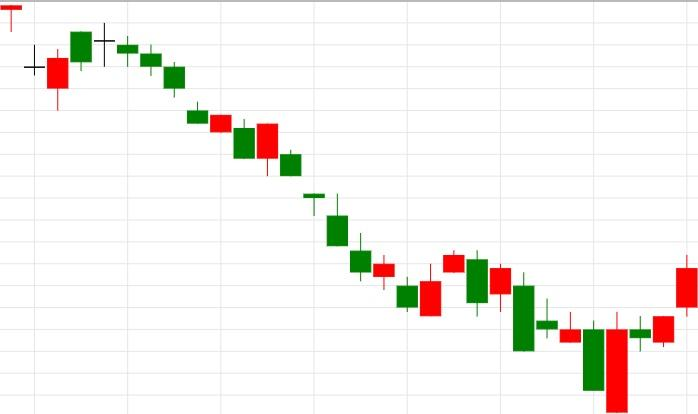bullish_engulfing_rise: (94, 24, 278, 176), (279, 150, 441, 316), (513, 272, 628, 413)
